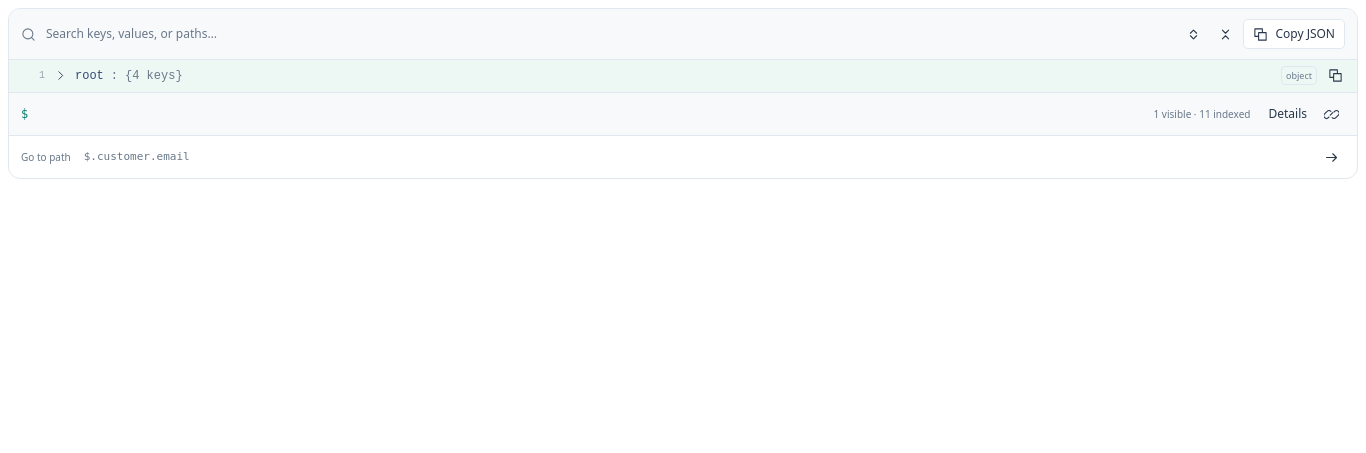
Test: JsonGlance › jumps to indexed JSONPaths, expands ancestors, and handles unknown paths
Type "$.customer.address.city" into the field labelled "Go to path". click: (694, 157)
box: [80, 145, 1308, 169]
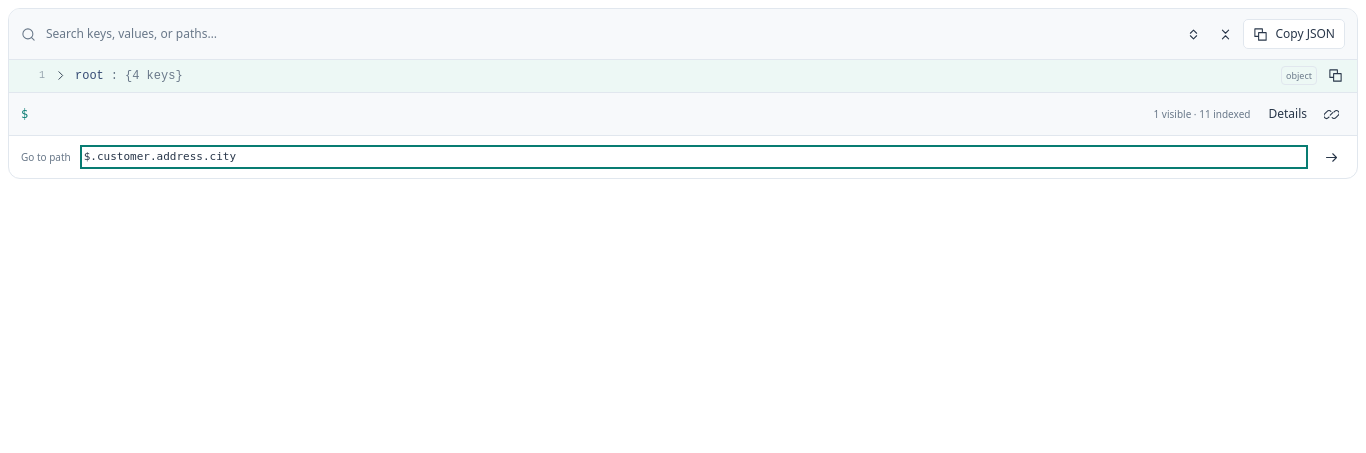
Click the button named "Navigate to path". click: (1331, 157)
box: [1317, 143, 1345, 171]
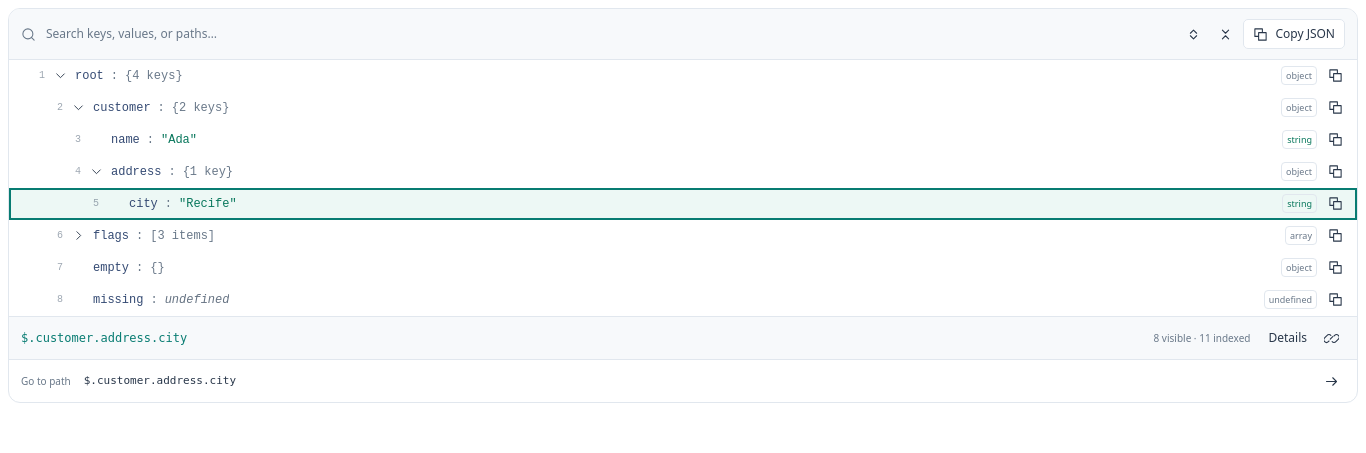
Replace the text in the field labelled "Go to path" with "$.absent". click: (694, 381)
box: [80, 369, 1308, 393]
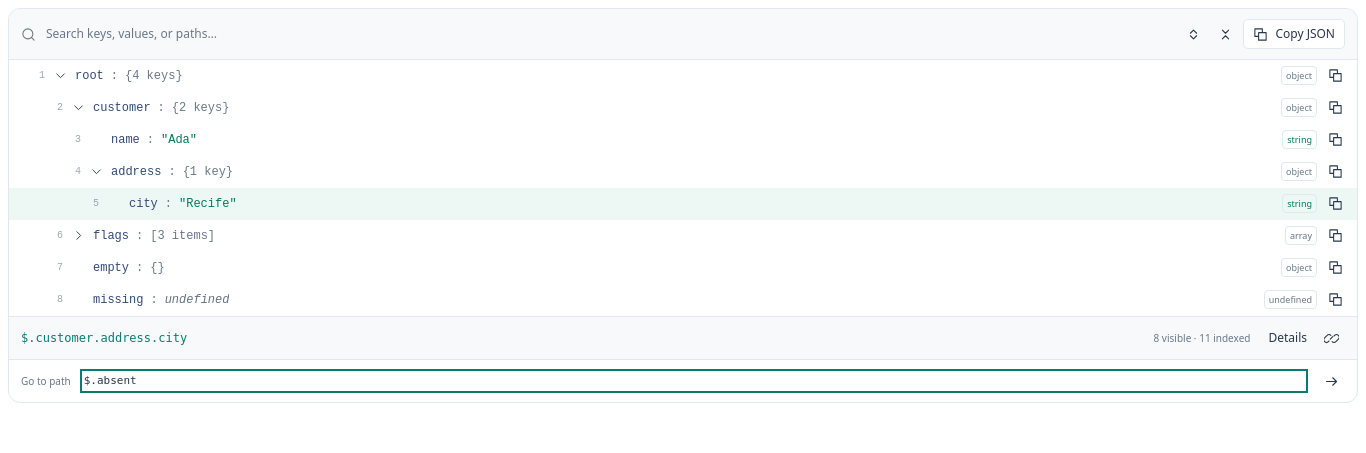
Click the button named "Navigate to path". click: (1331, 381)
box: [1317, 367, 1345, 395]
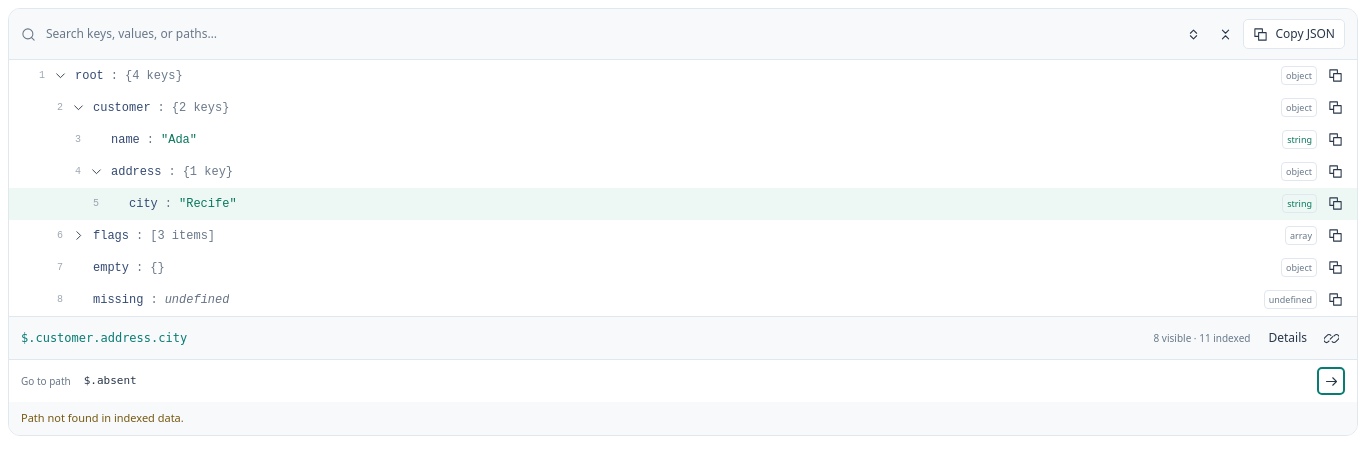
Check: the message shows "Path not found", box [21, 410, 184, 425]
